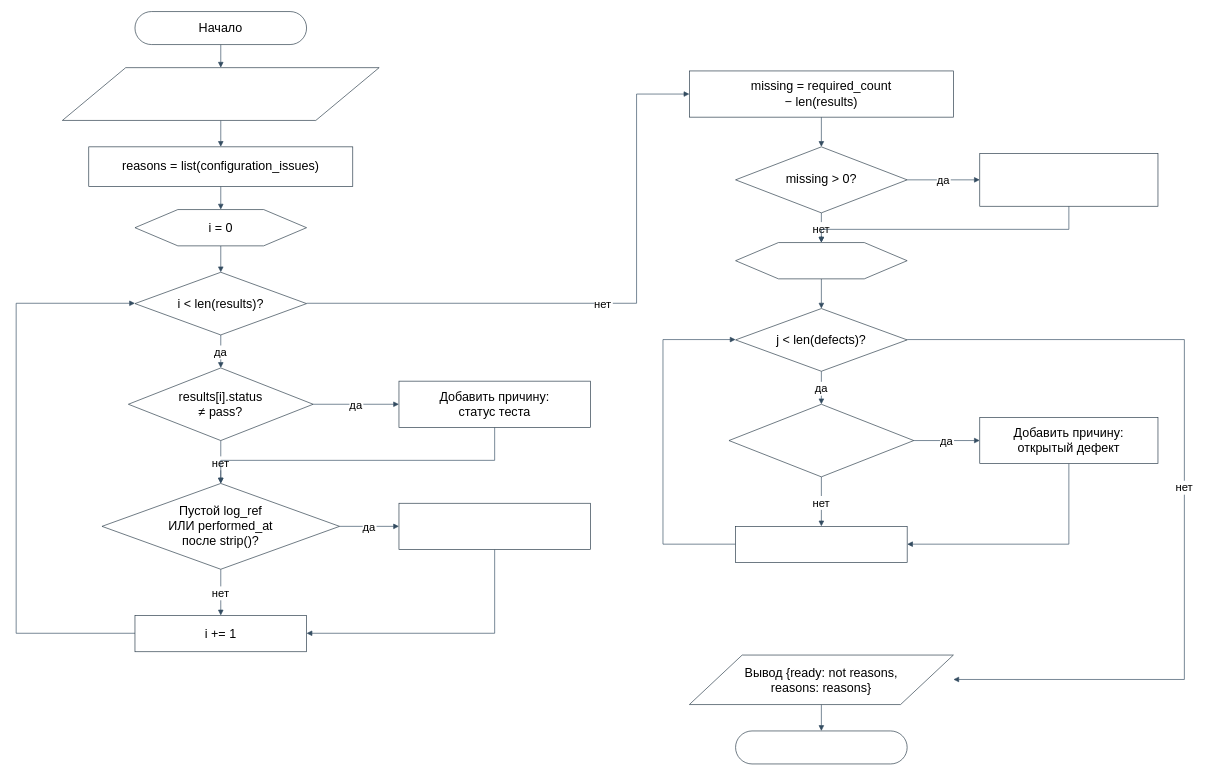
Some shapes in this 1205 by 776 pixel diagram are drawn without their labels. The centre of each missing label's shape, as x and y in pixels:
"defects[j].status = open?" belongs at (821,440).
"j += 1" belongs at (821,544).
"j = 0" belongs at (821,260).
"Ввод results, required_count, defects, configuration_issues" belongs at (220,93).
"Добавить причину: нет журнала или времени" belongs at (494,526).
"Добавить число пропущенных тестов" belongs at (1068,179).
"Конец" belongs at (821,747).
